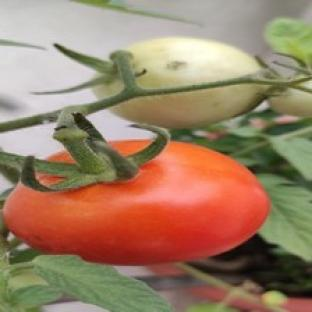Tomato: (3, 143, 268, 264), (111, 84, 263, 128), (268, 88, 311, 116)
